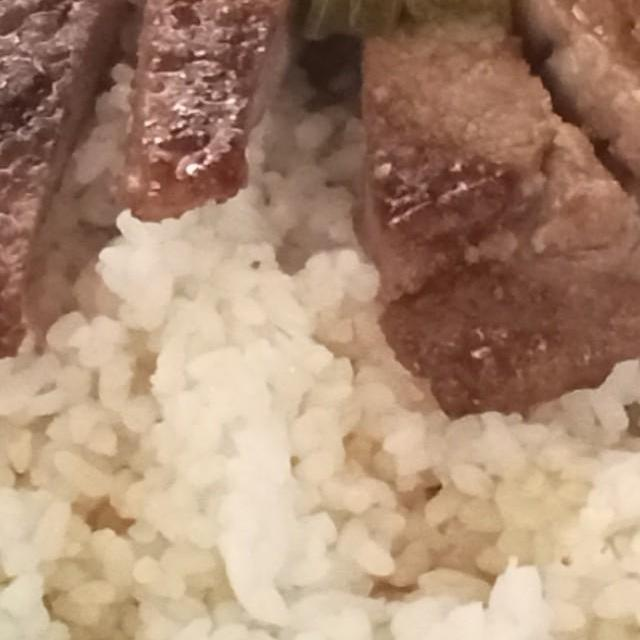com: (0, 48, 640, 640)
suon: (337, 0, 640, 435), (0, 0, 324, 396)
